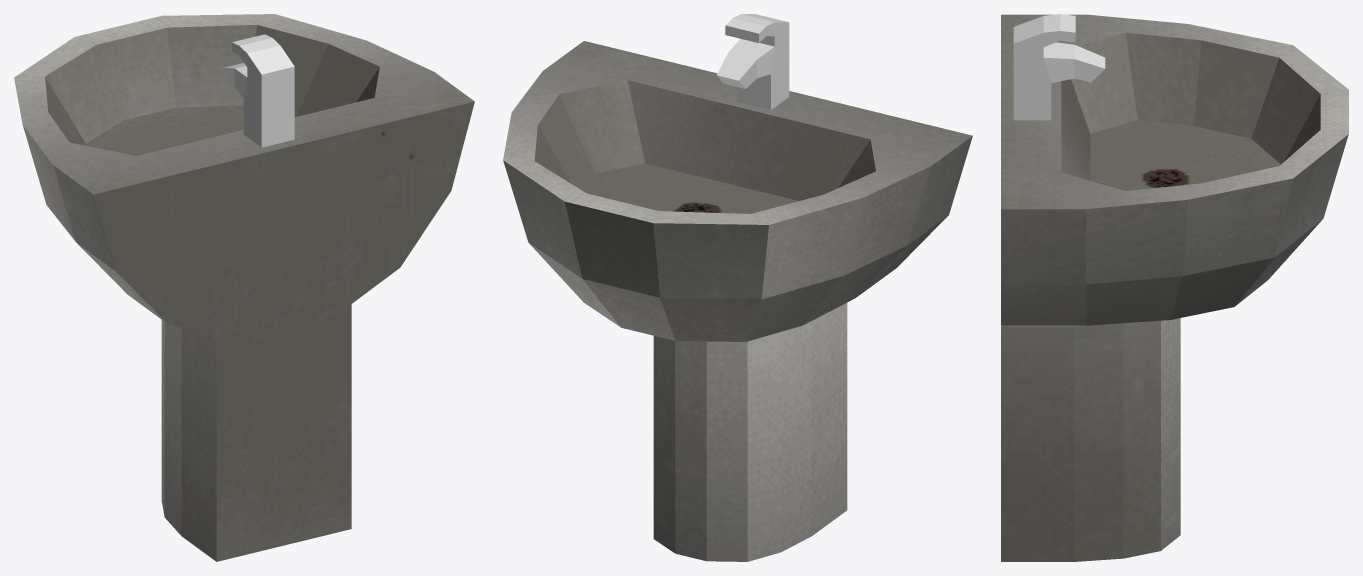
Rendered from Sink.fbx.
The picture shows the model from 3 angles, left to right: view 1: azimuth 30°, elevation 25°; view 2: azimuth 150°, elevation 25°; view 3: azimuth 270°, elevation 25°; orthographic projection. The views are drawn at different scales.
Visible parts, largest first — view 1: Cube.005; view 2: Cube.005; view 3: Cube.005.
Boxes of the visible parts, box(x1,y1,x2,y2) form: Cube.005: box(14, 14, 474, 561); Cube.005: box(503, 14, 972, 561); Cube.005: box(1001, 14, 1348, 561).
Bounding box in the file's own units: 240 × 290 × 181.
